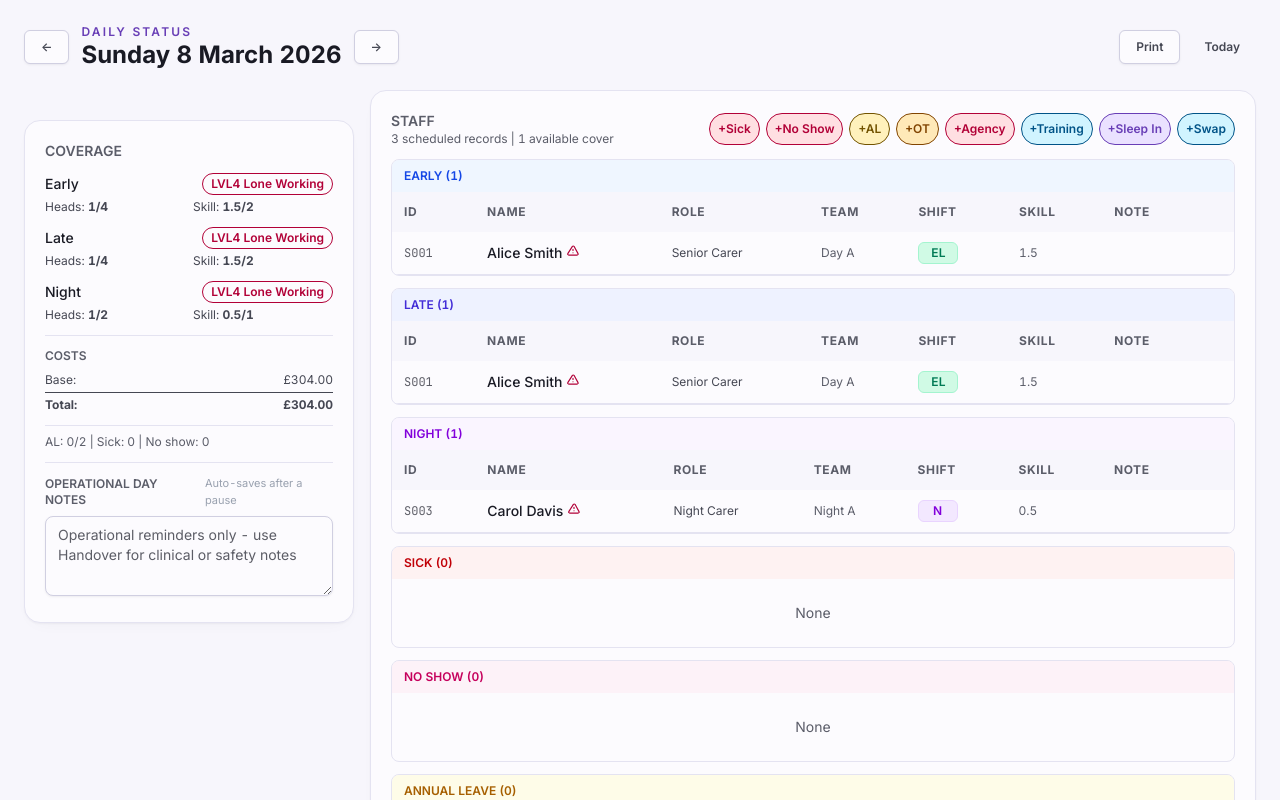
DailyStatus › sick-mark failure keeps the page mounted and shows error inline
Click the button "+Sick". click: (734, 129)
box: [709, 113, 760, 145]
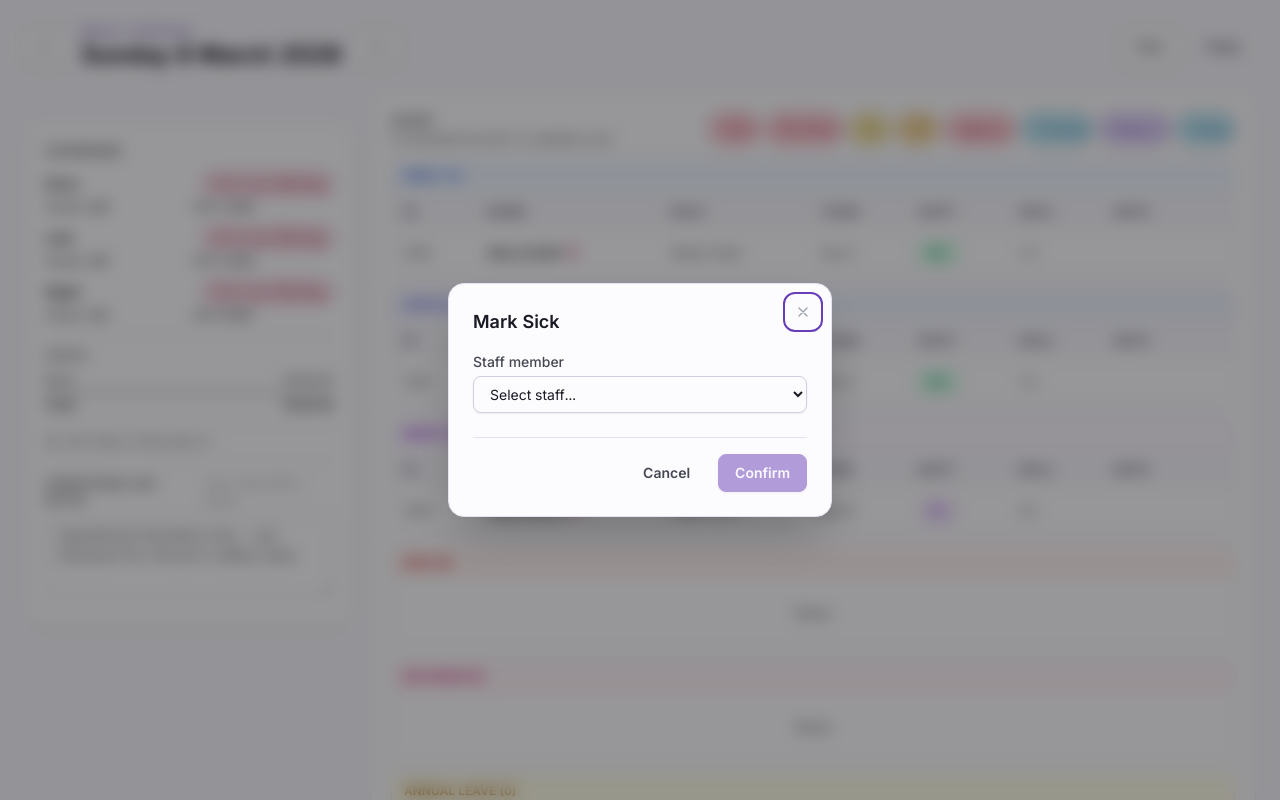
Select "Alice Smith (EL)" in the dropdown. click: (640, 394)
box: [473, 376, 807, 413]
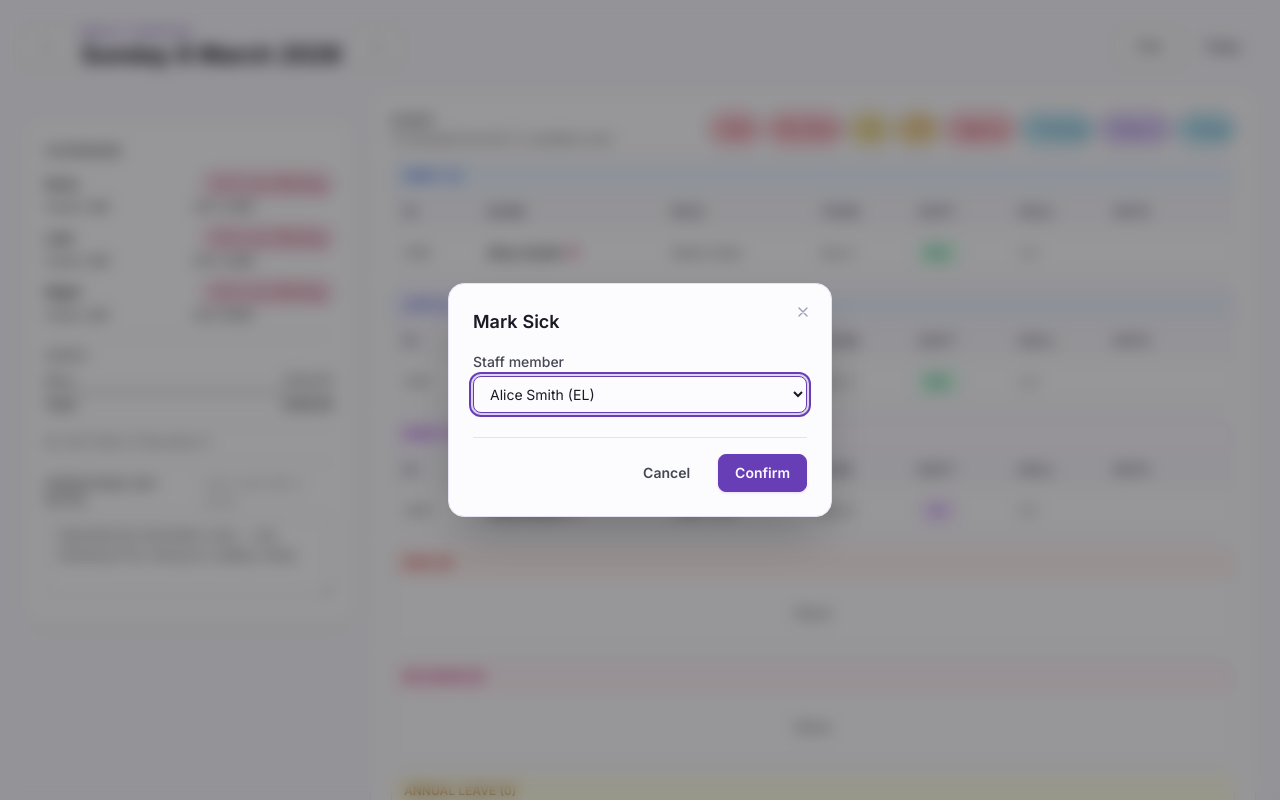
Click the button "Confirm". click: (763, 473)
box: [718, 454, 807, 492]
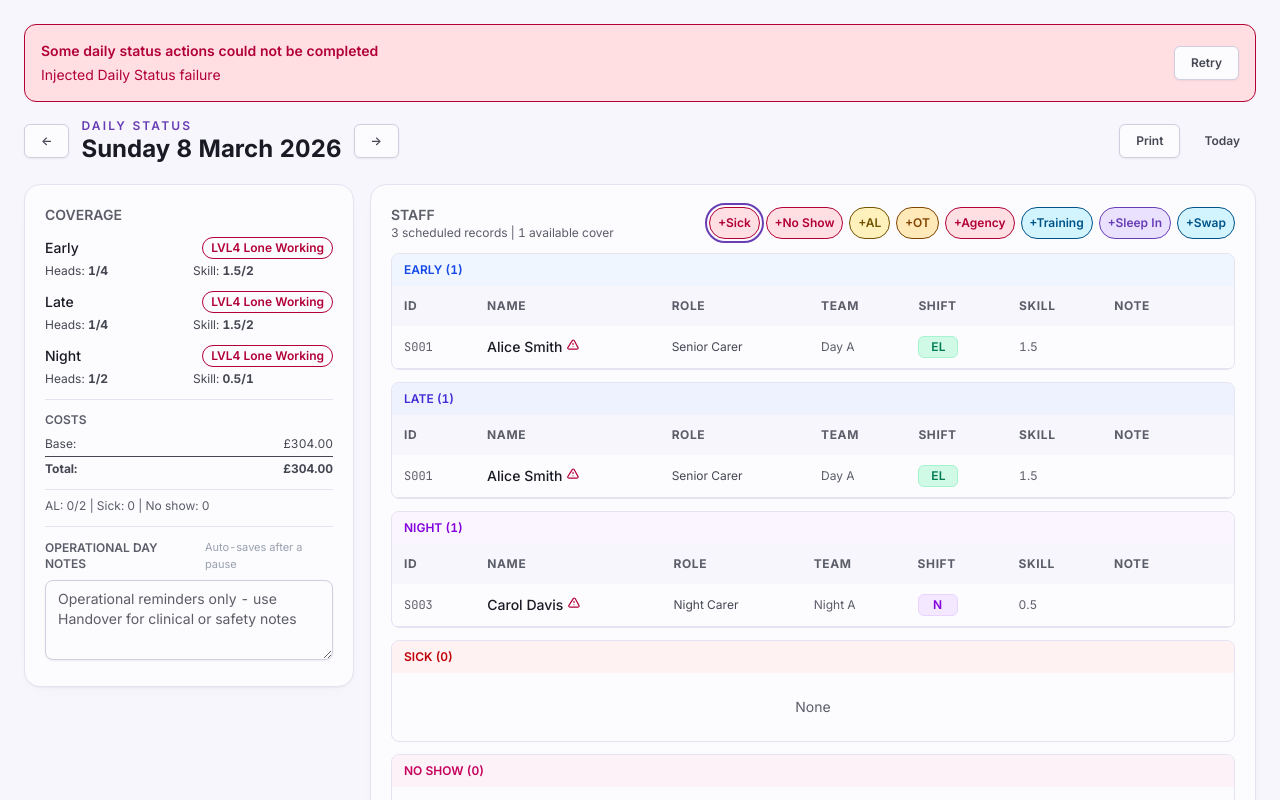
Expected: the button "+Sick" is shown, [709, 207, 760, 239]
Now the text "Some daily status actions could not be completed" is shown, box [41, 41, 378, 61]
Now the text "Injected Daily Status failure" is shown, box [41, 66, 220, 83]
